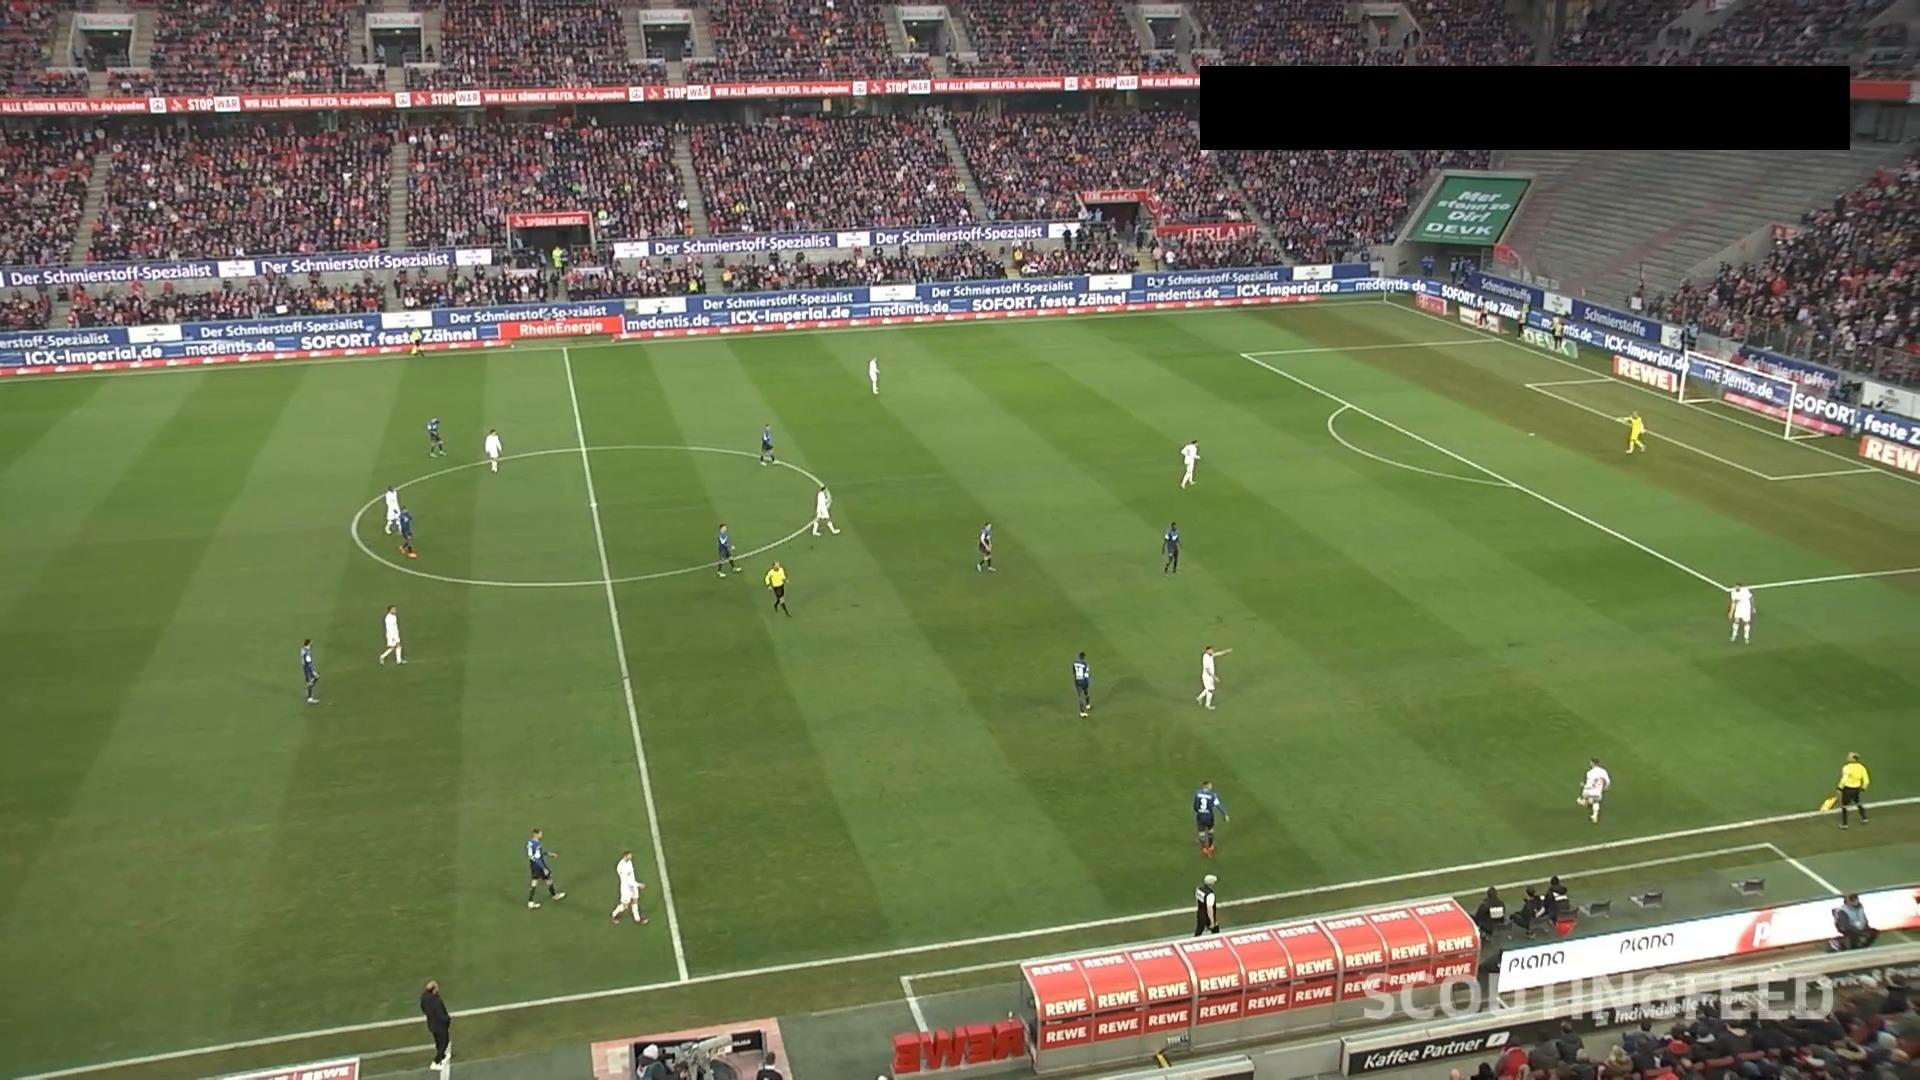ball: (1576, 795, 1588, 807)
